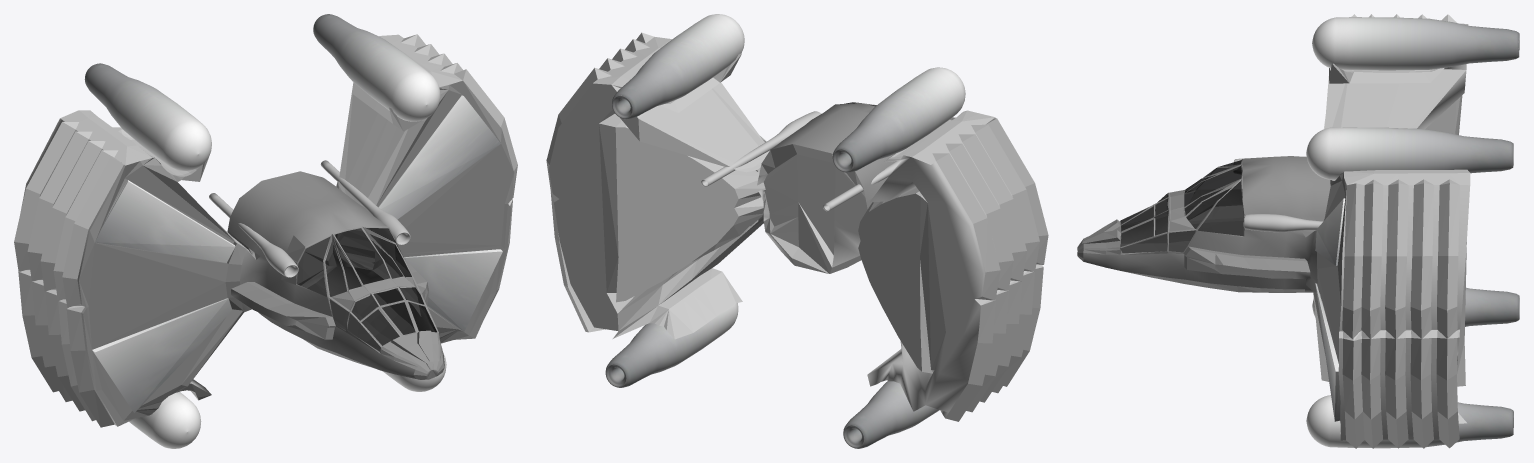
File: starship.FBX
3 views of the same model, side by side, from view 1: azimuth 30°, elevation 25°; view 2: azimuth 150°, elevation 25°; view 3: azimuth 270°, elevation 25° (orthographic). The views are drawn at different scales.
Visible parts, largest first — view 1: starShip, exhaust2, exhaust1, door1, door2, door4, door3, exhaust4, rocketlauncher2, rocketlauncher1, exhaust3; view 2: starShip, exhaust2, exhaust1, exhaust3, exhaust4, rocketlauncher1, rocketlauncher2; view 3: starShip, exhaust2, exhaust1, exhaust3, exhaust4, door4, door3, rocketlauncher1.
Boxes of the visible parts, box(x1,y1,x2,y2) form: starShip: box(14, 34, 517, 427); exhaust2: box(84, 63, 211, 170); exhaust1: box(313, 14, 440, 121); door1: box(92, 298, 232, 412); door2: box(95, 180, 235, 262); door4: box(379, 95, 500, 219); door3: box(404, 249, 502, 331); exhaust4: box(129, 392, 201, 448); rocketlauncher2: box(209, 193, 298, 277); rocketlauncher1: box(320, 160, 410, 244); exhaust3: box(382, 353, 446, 391); starShip: box(546, 32, 1048, 421); exhaust2: box(832, 67, 965, 172); exhaust1: box(612, 14, 744, 119); exhaust3: box(605, 303, 738, 387); exhaust4: box(843, 381, 939, 448); rocketlauncher1: box(701, 111, 821, 186); rocketlauncher2: box(823, 160, 901, 211); starShip: box(1077, 14, 1470, 448); exhaust2: box(1312, 17, 1519, 70); exhaust1: box(1306, 127, 1513, 179); exhaust3: box(1306, 395, 1513, 448); exhaust4: box(1312, 287, 1519, 326); door4: box(1315, 198, 1345, 265); door3: box(1315, 283, 1340, 421); rocketlauncher1: box(1243, 214, 1323, 232).
Size of the model in its own units: 145 by 98.31 by 125.
